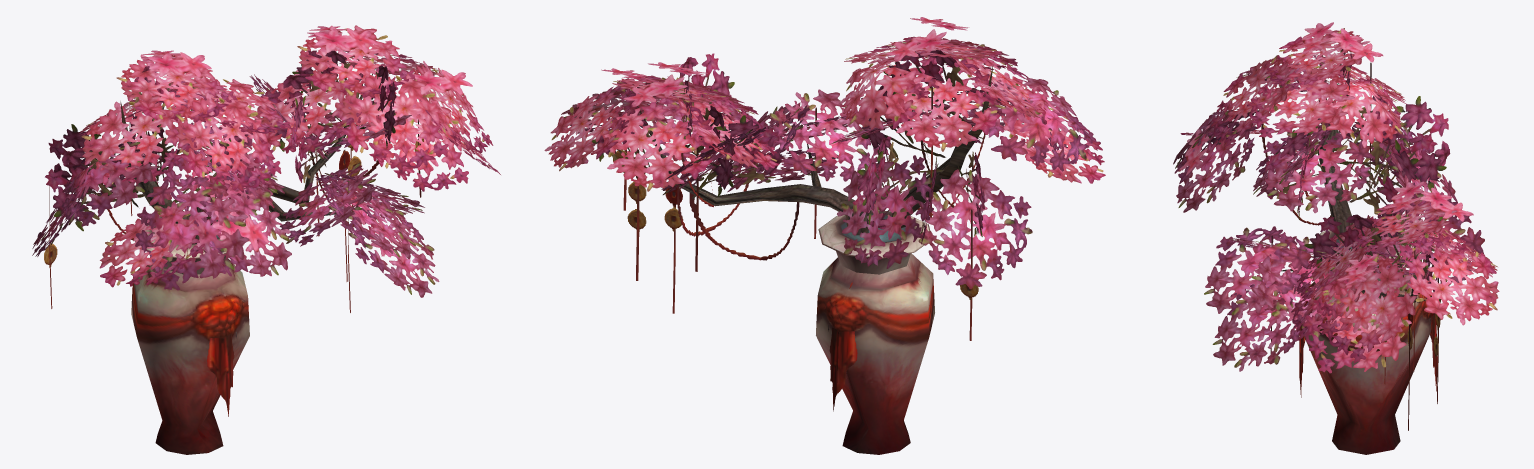
File: fb_baitang_huapeng.FBX
The picture shows the model from 3 angles, left to right: view 1: azimuth 30°, elevation 25°; view 2: azimuth 150°, elevation 25°; view 3: azimuth 270°, elevation 25°; orthographic projection. The views are drawn at different scales.
Parts seen in each view (by area): view 1: fb_baitang_huapeng; view 2: fb_baitang_huapeng; view 3: fb_baitang_huapeng.
Boxes of the visible parts, <box> form: fb_baitang_huapeng: <box>32,25,500,454</box>; fb_baitang_huapeng: <box>544,17,1105,454</box>; fb_baitang_huapeng: <box>1173,22,1499,454</box>.
Size of the model in its own units: 223 by 182 by 151.
